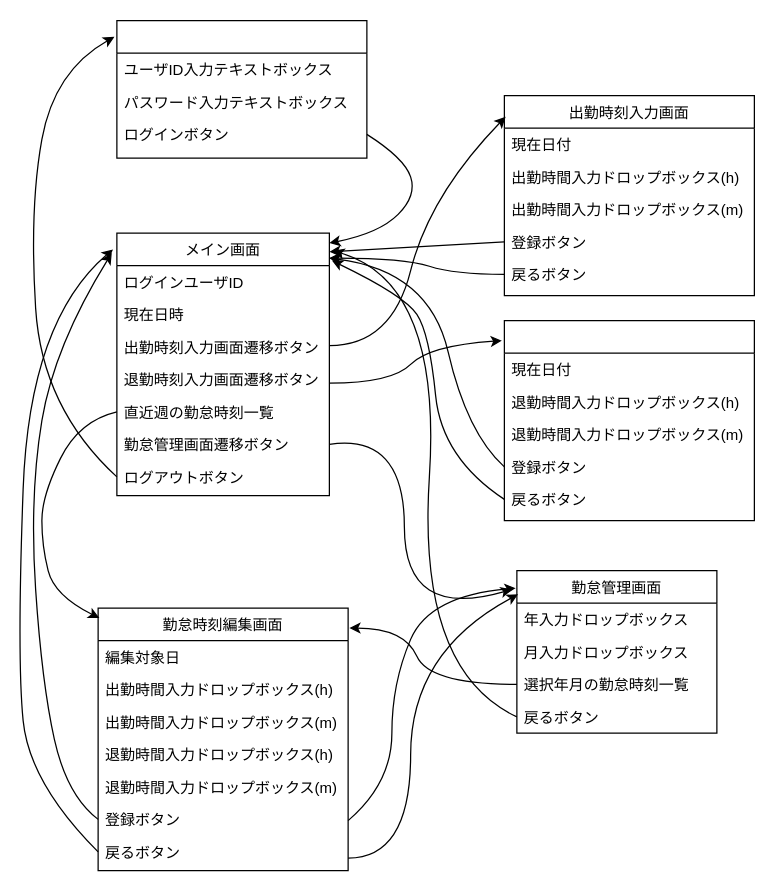
The diagram is 775 pixels wide and 891 high, and some of its shapes have lost their labels. Here are the shapes that lost their labels. From the top down, the box of each, then its label:
(116, 19, 367, 158): ログイン画面
(503, 319, 754, 521): 退勤時刻入力画面
